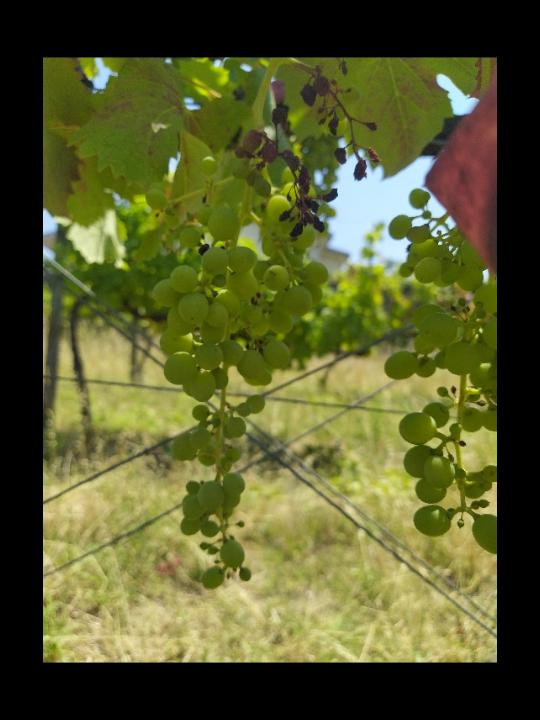grape: (133, 235, 330, 591), (384, 186, 497, 559), (234, 62, 383, 242)
